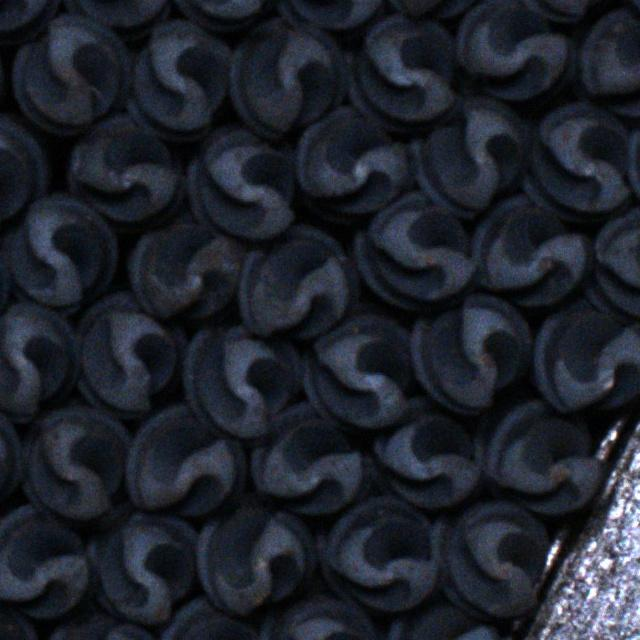tool_b: (472, 386, 602, 512), (304, 299, 427, 430), (410, 92, 532, 218), (196, 493, 319, 617), (408, 294, 534, 415), (352, 191, 474, 312), (431, 496, 547, 622), (84, 502, 200, 627), (75, 290, 186, 420), (343, 12, 462, 133), (250, 402, 376, 516), (124, 403, 245, 520), (22, 402, 132, 530), (229, 19, 343, 142), (315, 494, 438, 607), (11, 14, 130, 130), (520, 101, 634, 222), (294, 107, 409, 224), (456, 0, 578, 110), (185, 323, 301, 438), (470, 195, 590, 306), (4, 194, 118, 307), (237, 227, 353, 338), (66, 115, 182, 226), (128, 21, 235, 141), (187, 121, 296, 238), (130, 214, 243, 323), (372, 397, 482, 508), (534, 299, 640, 413), (0, 506, 88, 618), (0, 303, 75, 421), (378, 586, 502, 640), (585, 204, 640, 323), (580, 9, 640, 116)
